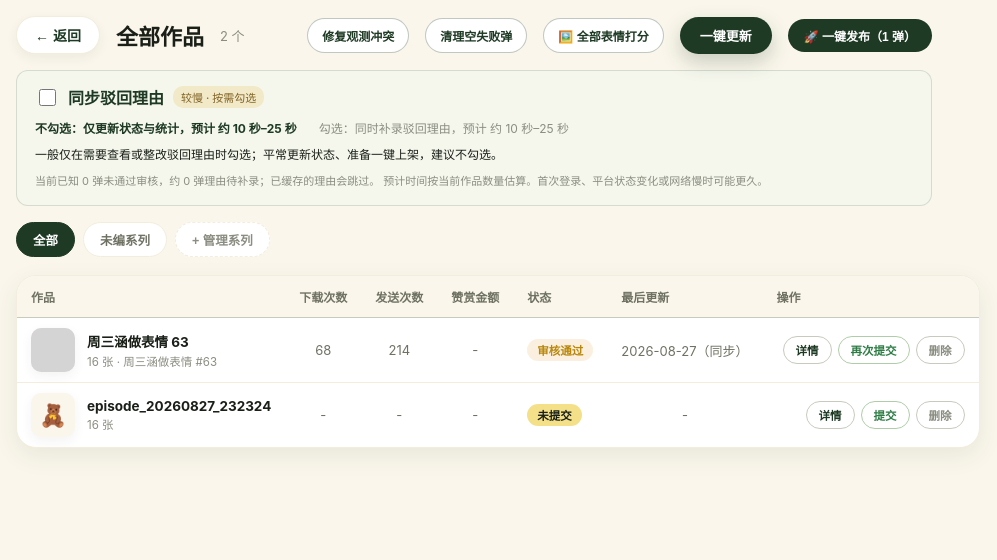
作品库微信风表格 › 快速上架结果显示待核对原因、剩余作品和状态保存告警
Click the button with class "shelf-btn". click: [860, 35]
box: left=788, top=18, right=932, bottom=52
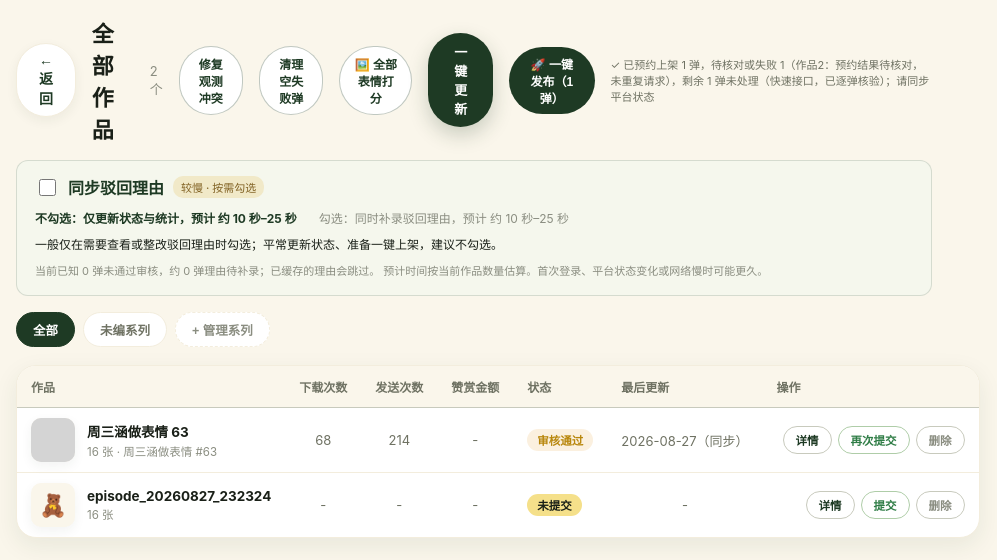
Check: the text "快速接口，已逐弹核验" is shown, box left=610, top=58, right=929, bottom=104
Check: the text "预约结果待核对，未重复请求" is shown, box left=610, top=58, right=929, bottom=104
Check: the text "剩余 1 弹未处理" is shown, box left=610, top=58, right=929, bottom=104
